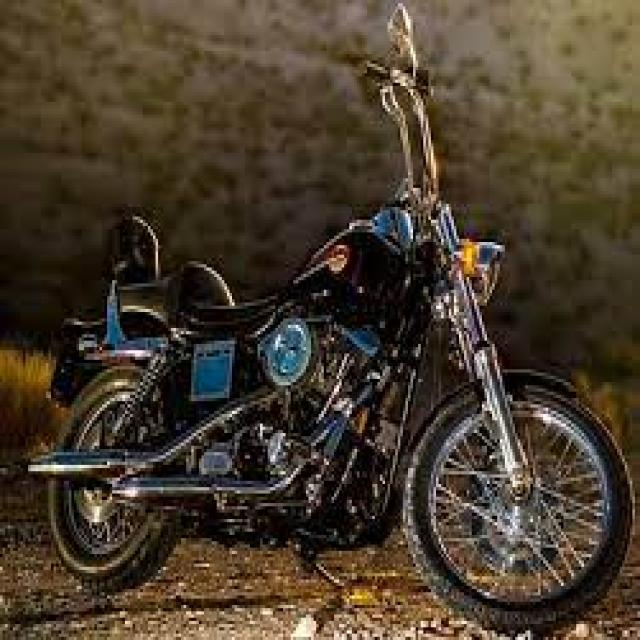Bike: (40, 24, 640, 632)
